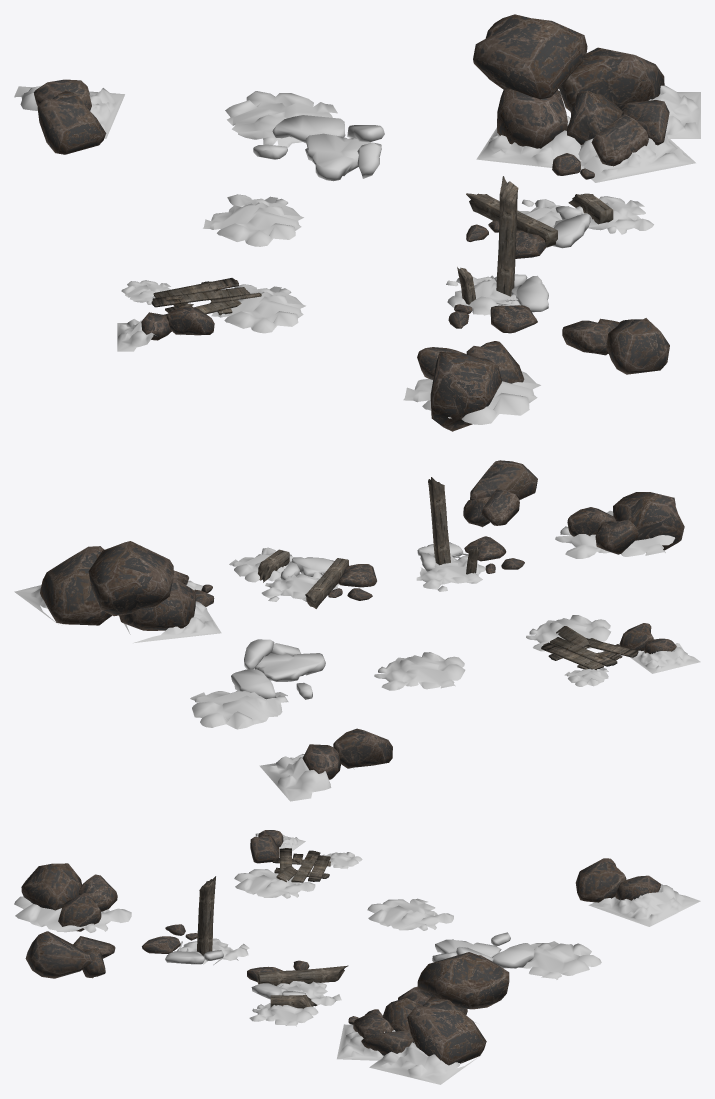
File: 4way_intersection_rough_terrain.dae
3 renders of one model, top to bottom at view 1: azimuth 30°, elevation 25°; view 2: azimuth 150°, elevation 25°; view 3: azimuth 270°, elevation 25°, orthographic. The views are drawn at different scales.
Parts seen in each view (by area): view 1: Rocks, RockPile, Concrete, Wood; view 2: Rocks, RockPile, Wood, Concrete; view 3: Rocks, RockPile, Wood, Concrete.
Part boxes in pixels (left/top/right/bottom): Rocks: left=33, top=14, right=669, bottom=431; RockPile: left=14, top=85, right=700, bottom=424; Concrete: left=253, top=115, right=590, bottom=312; Wood: left=151, top=176, right=613, bottom=316; Rocks: left=40, top=460, right=684, bottom=779; RockPile: left=14, top=510, right=700, bottom=801; Wood: left=258, top=477, right=638, bottom=669; Concrete: left=231, top=542, right=468, bottom=699; Rocks: left=21, top=830, right=660, bottom=1065; RockPile: left=14, top=831, right=700, bottom=1084; Wood: left=197, top=848, right=348, bottom=1008; Concrete: left=165, top=932, right=534, bottom=999.
Bounding box in the file's own units: 1699 × 1939 × 305.
